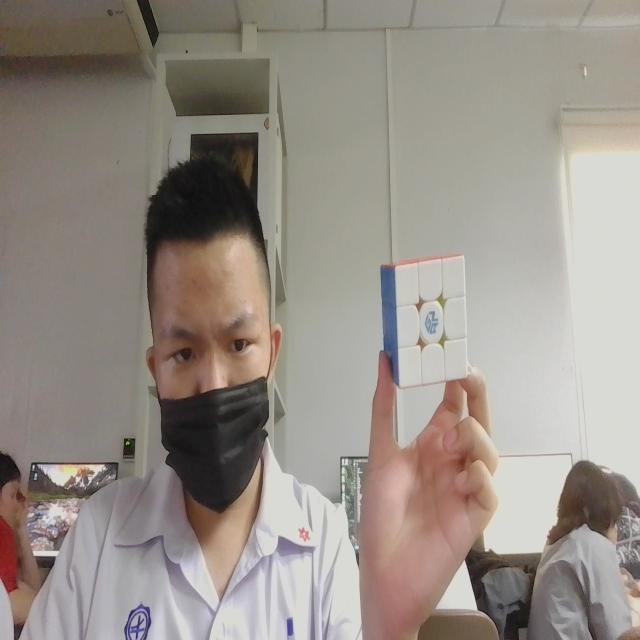rubik: (366, 237, 476, 401)
